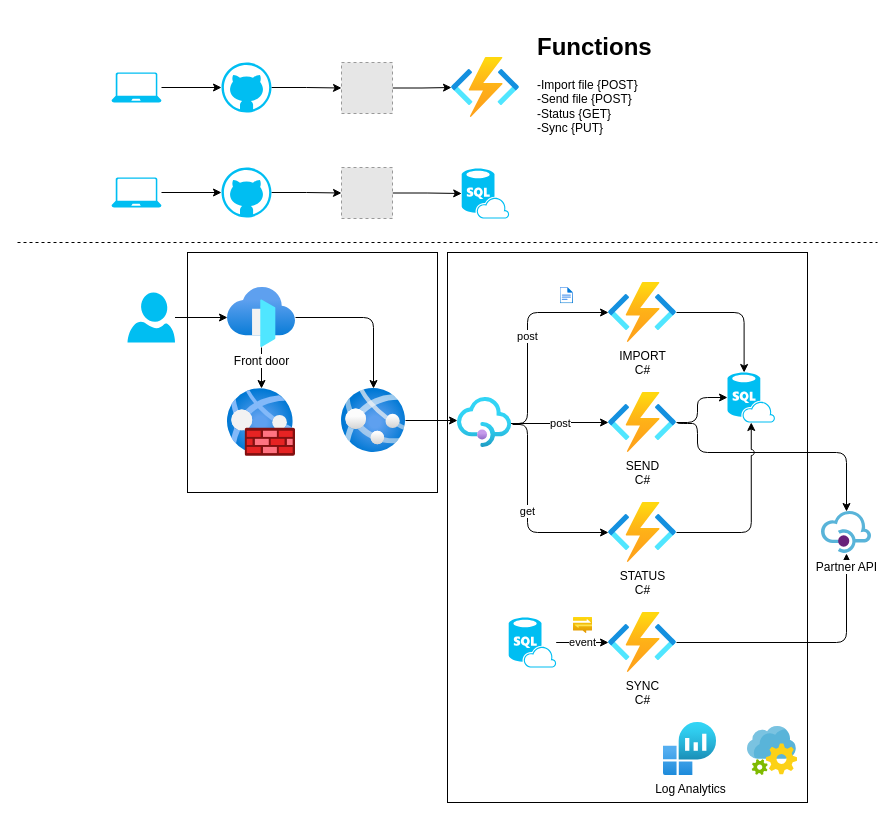
Some shapes in this 896 by 820 pixel diagram are drawn without their labels. Grey dashed boxes stand in for pictures. The shapes that lost their labels are listed below. From the top down, each one's centre as x and y in pixels, then its label:
the point at 261,422: WAF
the point at 373,420: App Web Services
the point at 484,422: API GTW
the point at 772,750: App config
